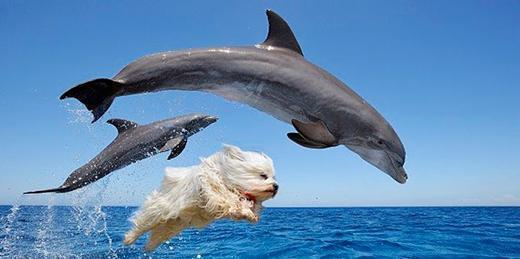fish: (58, 7, 408, 185), (21, 109, 220, 198)
